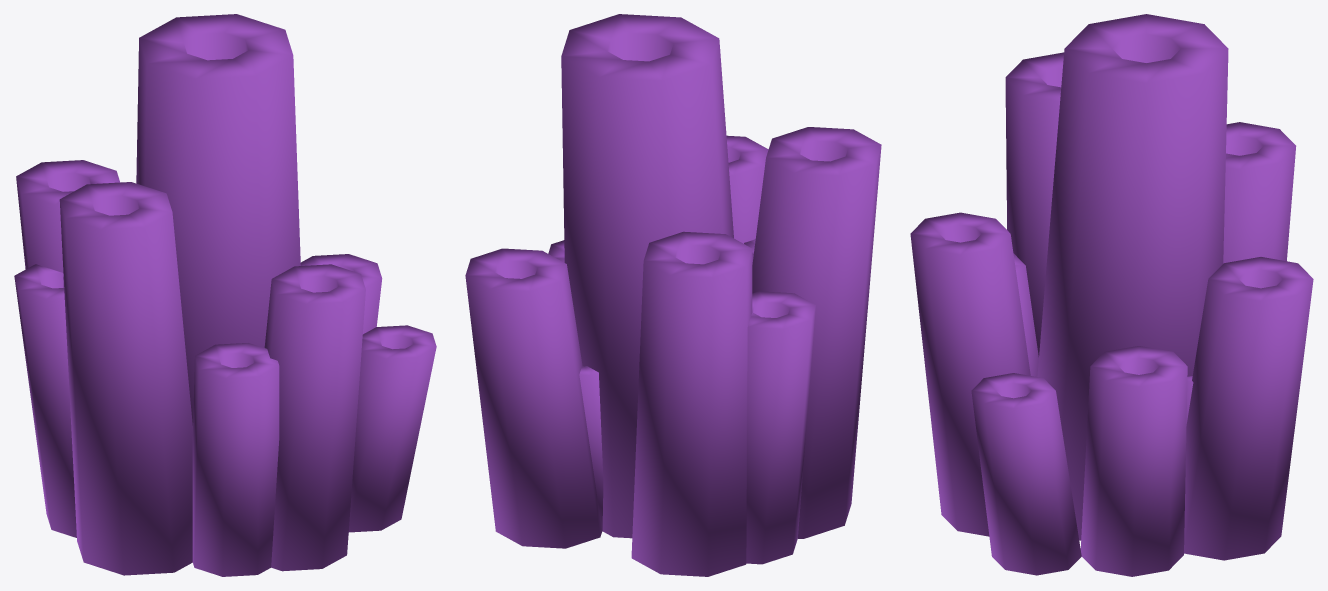
File: Large5.fbx
The picture shows the model from 3 angles, left to right: view 1: azimuth 30°, elevation 25°; view 2: azimuth 150°, elevation 25°; view 3: azimuth 270°, elevation 25°; orthographic projection. The views are drawn at different scales.
Parts seen in each view (by area): view 1: Large5; view 2: Large5; view 3: Large5.
Part boxes in pixels (x1,y1,x2,y2): Large5: [14, 14, 436, 576]; Large5: [465, 14, 881, 576]; Large5: [910, 14, 1313, 576].
Size of the model in its own units: 6.05 by 7.5 by 5.92.
